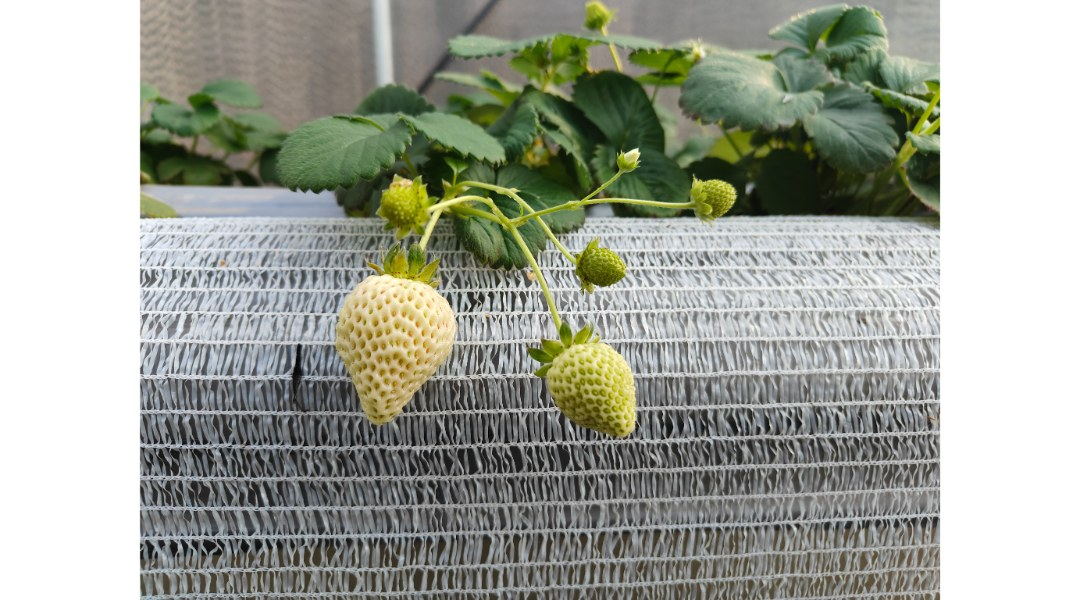berry: (330, 249, 464, 435), (524, 311, 671, 444), (673, 160, 745, 219), (576, 237, 631, 297), (380, 179, 431, 230)
flower: (611, 137, 647, 177)
strain: (512, 272, 563, 328), (598, 197, 697, 213)
